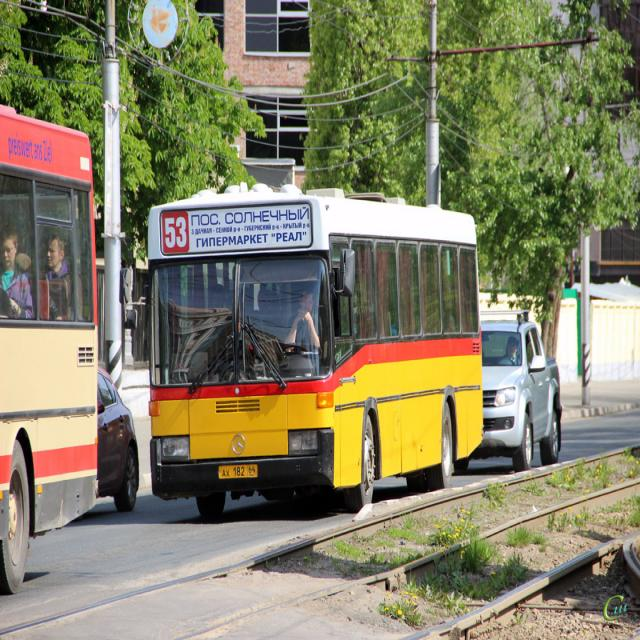number-of-bus: (163, 215, 188, 252)
